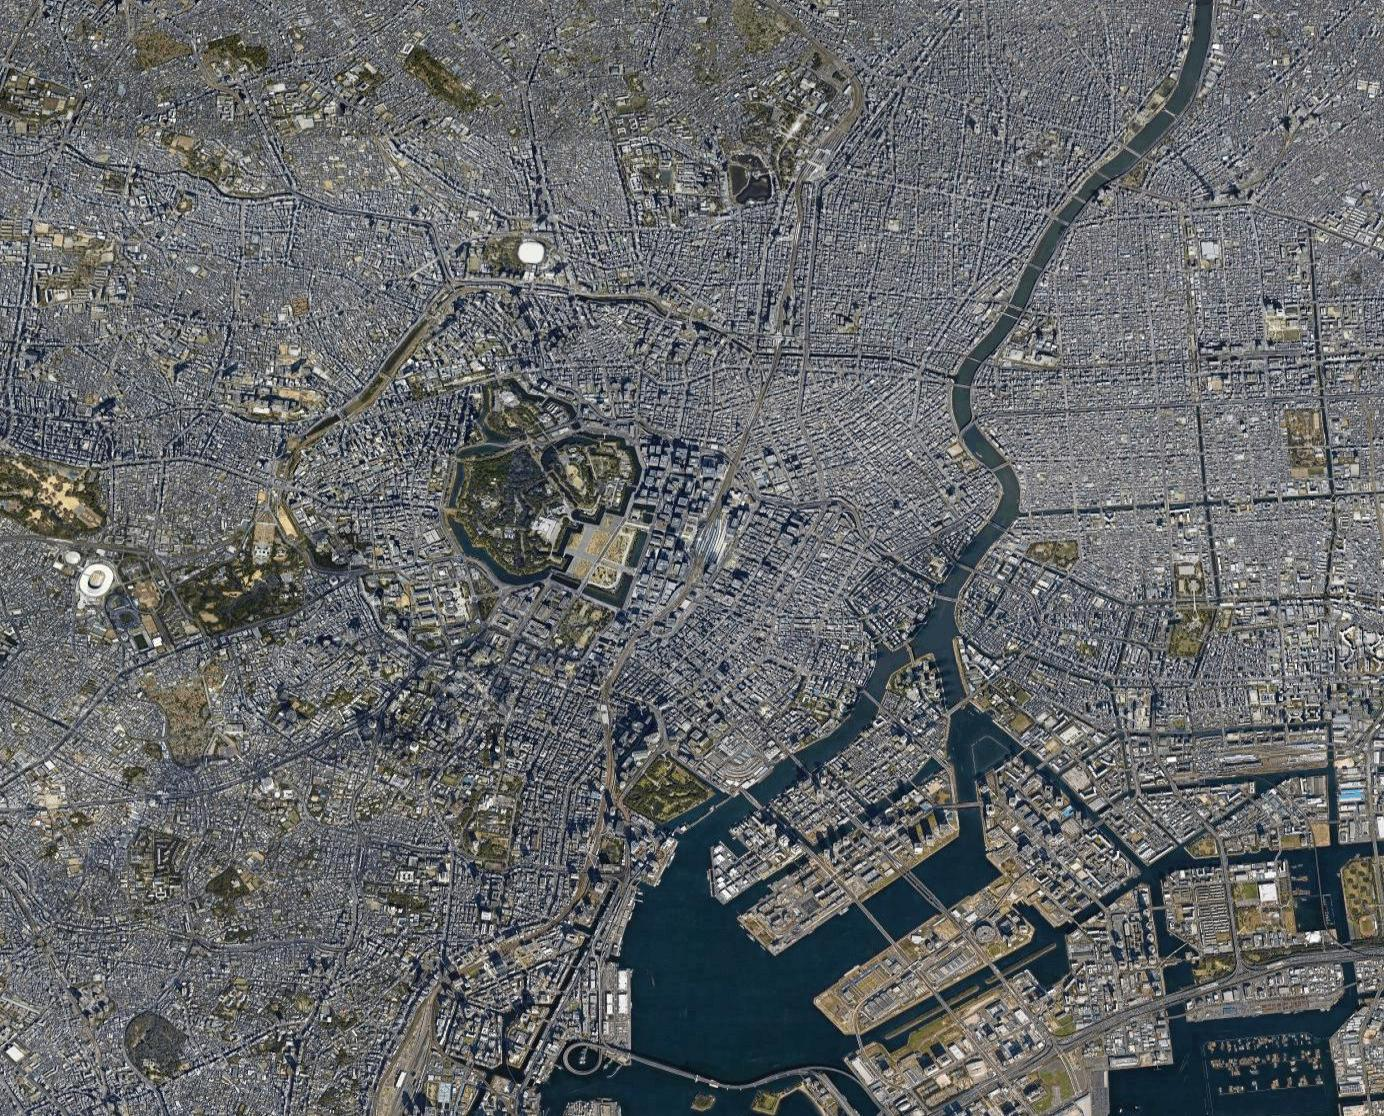bridge: (624, 1050, 862, 1085), (854, 896, 896, 947), (908, 869, 953, 914), (983, 955, 1010, 992), (926, 990, 956, 1023), (791, 750, 814, 780), (860, 686, 885, 709), (736, 788, 763, 810), (945, 695, 965, 722), (1004, 304, 1027, 323), (1070, 190, 1094, 208), (949, 557, 976, 573), (903, 642, 920, 667), (1088, 169, 1112, 186), (1049, 214, 1071, 232), (1125, 143, 1146, 162), (1162, 107, 1184, 123), (947, 383, 973, 395), (957, 422, 977, 438), (963, 353, 984, 368), (990, 458, 1009, 474), (928, 593, 958, 604), (950, 802, 984, 809), (1025, 263, 1042, 276)
harbor: (1091, 971, 1360, 1116)
train_station: (686, 508, 731, 585)
